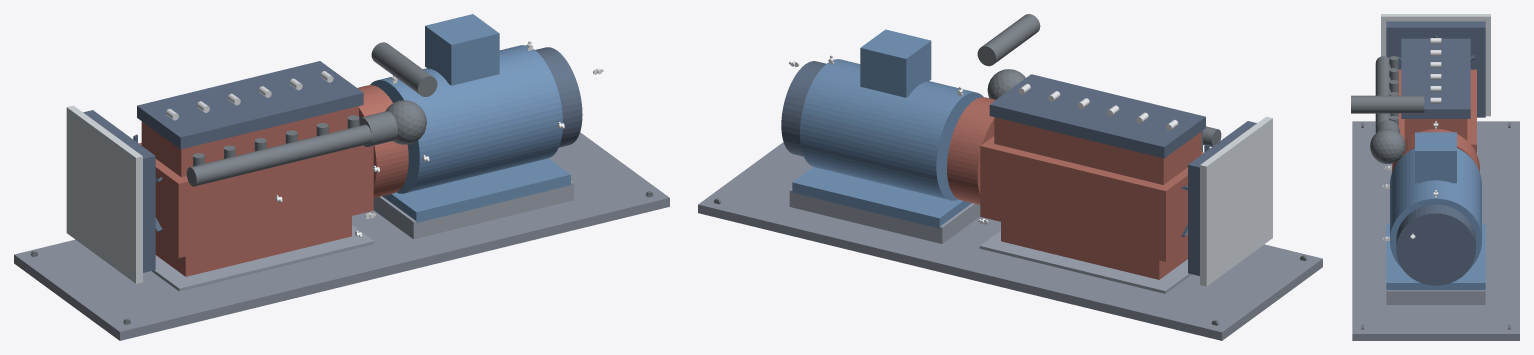
Rendered from dg-set.glb.
3 views of the same model, side by side, from view 1: azimuth 30°, elevation 25°; view 2: azimuth 150°, elevation 25°; view 3: azimuth 270°, elevation 25° (orthographic). The views are drawn at different scales.
Parts seen in each view (by area): view 1: PART_001, CASING_ALTCASE_033, CASING_ENGINEBLOCK_006, CASING_RADIATOR_027, CASING_ROCKERCOVER_008, CASING_ALTFOOT_034, CASING_TERMBOX_035, CASING_HEAD_007, CASING_SUMP_009, CASING_MANIFOLD_022, PART_038, PART_039 (+6 smaller); view 2: PART_001, CASING_ENGINEBLOCK_006, CASING_ALTCASE_033, CASING_ROCKERCOVER_008, CASING_RADIATOR_027, CASING_HEAD_007, CASING_ALTFOOT_034, CASING_TERMBOX_035, CASING_SUMP_009, CASING_FLYWHEELHSG_030, PART_038, PART_039 (+4 smaller); view 3: PART_001, CASING_ALTCOWL_036, CASING_ROCKERCOVER_008, CASING_ALTCASE_033, CASING_RADIATOR_026, CASING_TERMBOX_035, CASING_ALTFOOT_034, CASING_RADIATOR_027, PART_038, CASING_EXHAUST_025, CASING_TURBO_024, CASING_HEAD_007 (+4 smaller).
Part boxes in pixels (left/top/right/bottom): PART_001: left=14, top=132, right=669, bottom=340; CASING_ALTCASE_033: left=370, top=45, right=562, bottom=193; CASING_ENGINEBLOCK_006: left=139, top=142, right=373, bottom=257; CASING_RADIATOR_027: left=66, top=105, right=142, bottom=283; CASING_ROCKERCOVER_008: left=137, top=61, right=363, bottom=149; CASING_ALTFOOT_034: left=382, top=158, right=570, bottom=222; CASING_TERMBOX_035: left=425, top=14, right=499, bottom=85; CASING_HEAD_007: left=141, top=106, right=358, bottom=177; CASING_SUMP_009: left=155, top=216, right=351, bottom=276; CASING_MANIFOLD_022: left=186, top=124, right=371, bottom=186; PART_038: left=373, top=181, right=573, bottom=239; PART_039: left=151, top=225, right=374, bottom=291; PART_001: left=698, top=142, right=1322, bottom=340; CASING_ENGINEBLOCK_006: left=980, top=136, right=1203, bottom=261; CASING_ALTCASE_033: left=800, top=59, right=983, bottom=200; CASING_ROCKERCOVER_008: left=989, top=74, right=1205, bottom=158; CASING_RADIATOR_027: left=1200, top=116, right=1272, bottom=286; CASING_HEAD_007: left=994, top=117, right=1201, bottom=184; CASING_ALTFOOT_034: left=792, top=167, right=971, bottom=228; CASING_TERMBOX_035: left=860, top=29, right=931, bottom=97; CASING_SUMP_009: left=1001, top=222, right=1187, bottom=279; CASING_FLYWHEELHSG_030: left=947, top=97, right=995, bottom=204; PART_038: left=789, top=188, right=980, bottom=243; PART_039: left=979, top=230, right=1191, bottom=293; PART_001: left=1352, top=121, right=1519, bottom=340; CASING_ALTCOWL_036: left=1396, top=204, right=1475, bottom=285; CASING_ROCKERCOVER_008: left=1401, top=38, right=1470, bottom=118; CASING_ALTCASE_033: left=1390, top=148, right=1481, bottom=269; CASING_RADIATOR_026: left=1386, top=21, right=1485, bottom=117; CASING_TERMBOX_035: left=1415, top=132, right=1456, bottom=183; CASING_ALTFOOT_034: left=1386, top=223, right=1485, bottom=290; CASING_RADIATOR_027: left=1381, top=14, right=1490, bottom=116; PART_038: left=1386, top=290, right=1485, bottom=304; CASING_EXHAUST_025: left=1351, top=95, right=1424, bottom=113; CASING_TURBO_024: left=1370, top=128, right=1405, bottom=163; CASING_HEAD_007: left=1404, top=119, right=1467, bottom=140.
Size of the model in its own units: 4.8 by 1.59 by 1.61.
